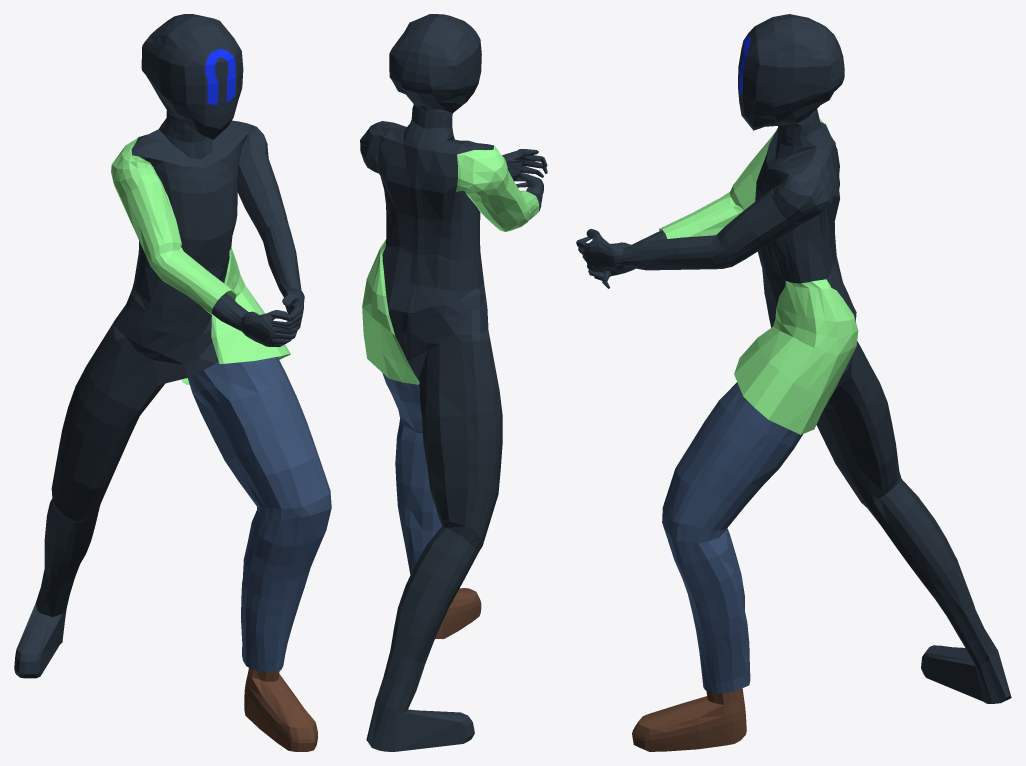
Rendered from Mar_Attack_000036.obj.
The picture shows the model from 3 angles, left to right: view 1: azimuth 30°, elevation 25°; view 2: azimuth 150°, elevation 25°; view 3: azimuth 270°, elevation 25°; orthographic projection. The views are drawn at different scales.
Visible parts, largest first — view 1: Cube.000_Cube.001; view 2: Cube.000_Cube.001; view 3: Cube.000_Cube.001.
Boxes of the visible parts, left/top/right/bottom form: Cube.000_Cube.001: left=14, top=14, right=331, bottom=751; Cube.000_Cube.001: left=360, top=14, right=547, bottom=751; Cube.000_Cube.001: left=576, top=14, right=1011, bottom=751.
Size of the model in its own units: 1.09 by 3.73 by 2.08.
